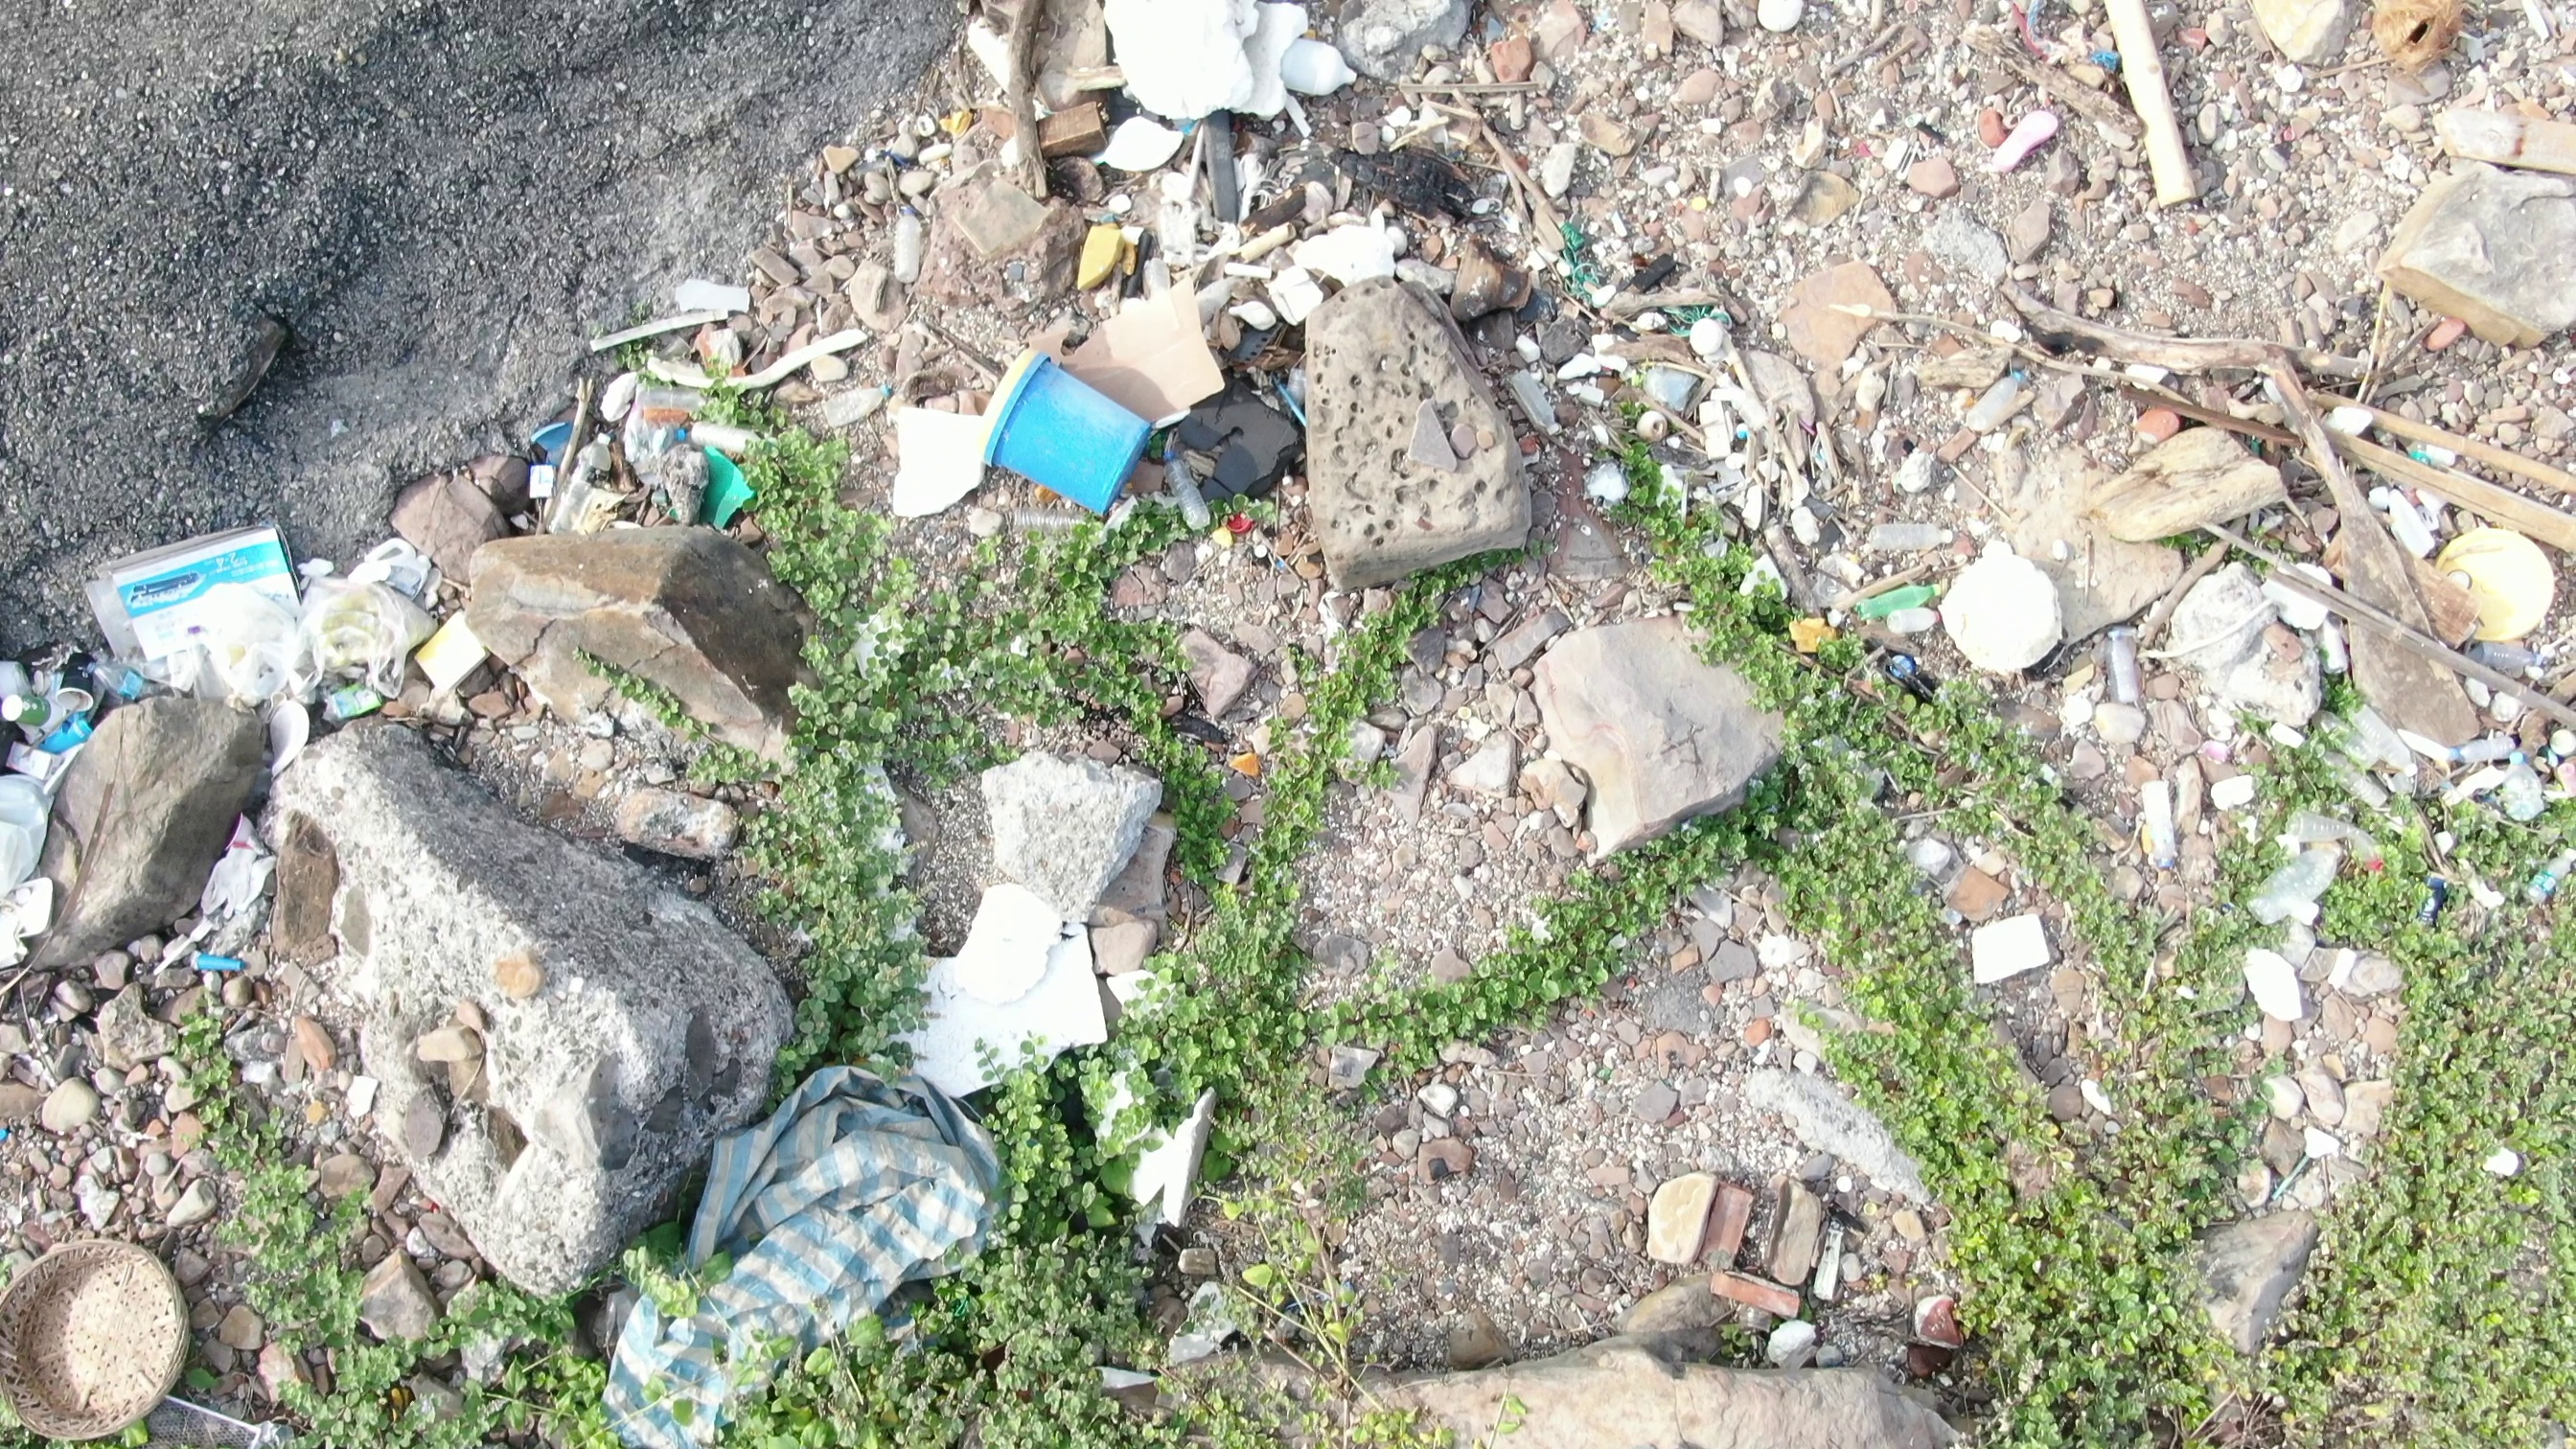bottle: (545, 428, 617, 557), (1960, 361, 2043, 441), (1164, 435, 1221, 541), (1849, 582, 1951, 633), (2525, 846, 2576, 918)
garbage: (752, 2, 1948, 651), (2, 260, 777, 996), (1928, 280, 2567, 1102), (577, 1062, 1001, 1449), (863, 872, 1155, 1116), (9, 1223, 195, 1449), (1063, 1040, 1231, 1235)
